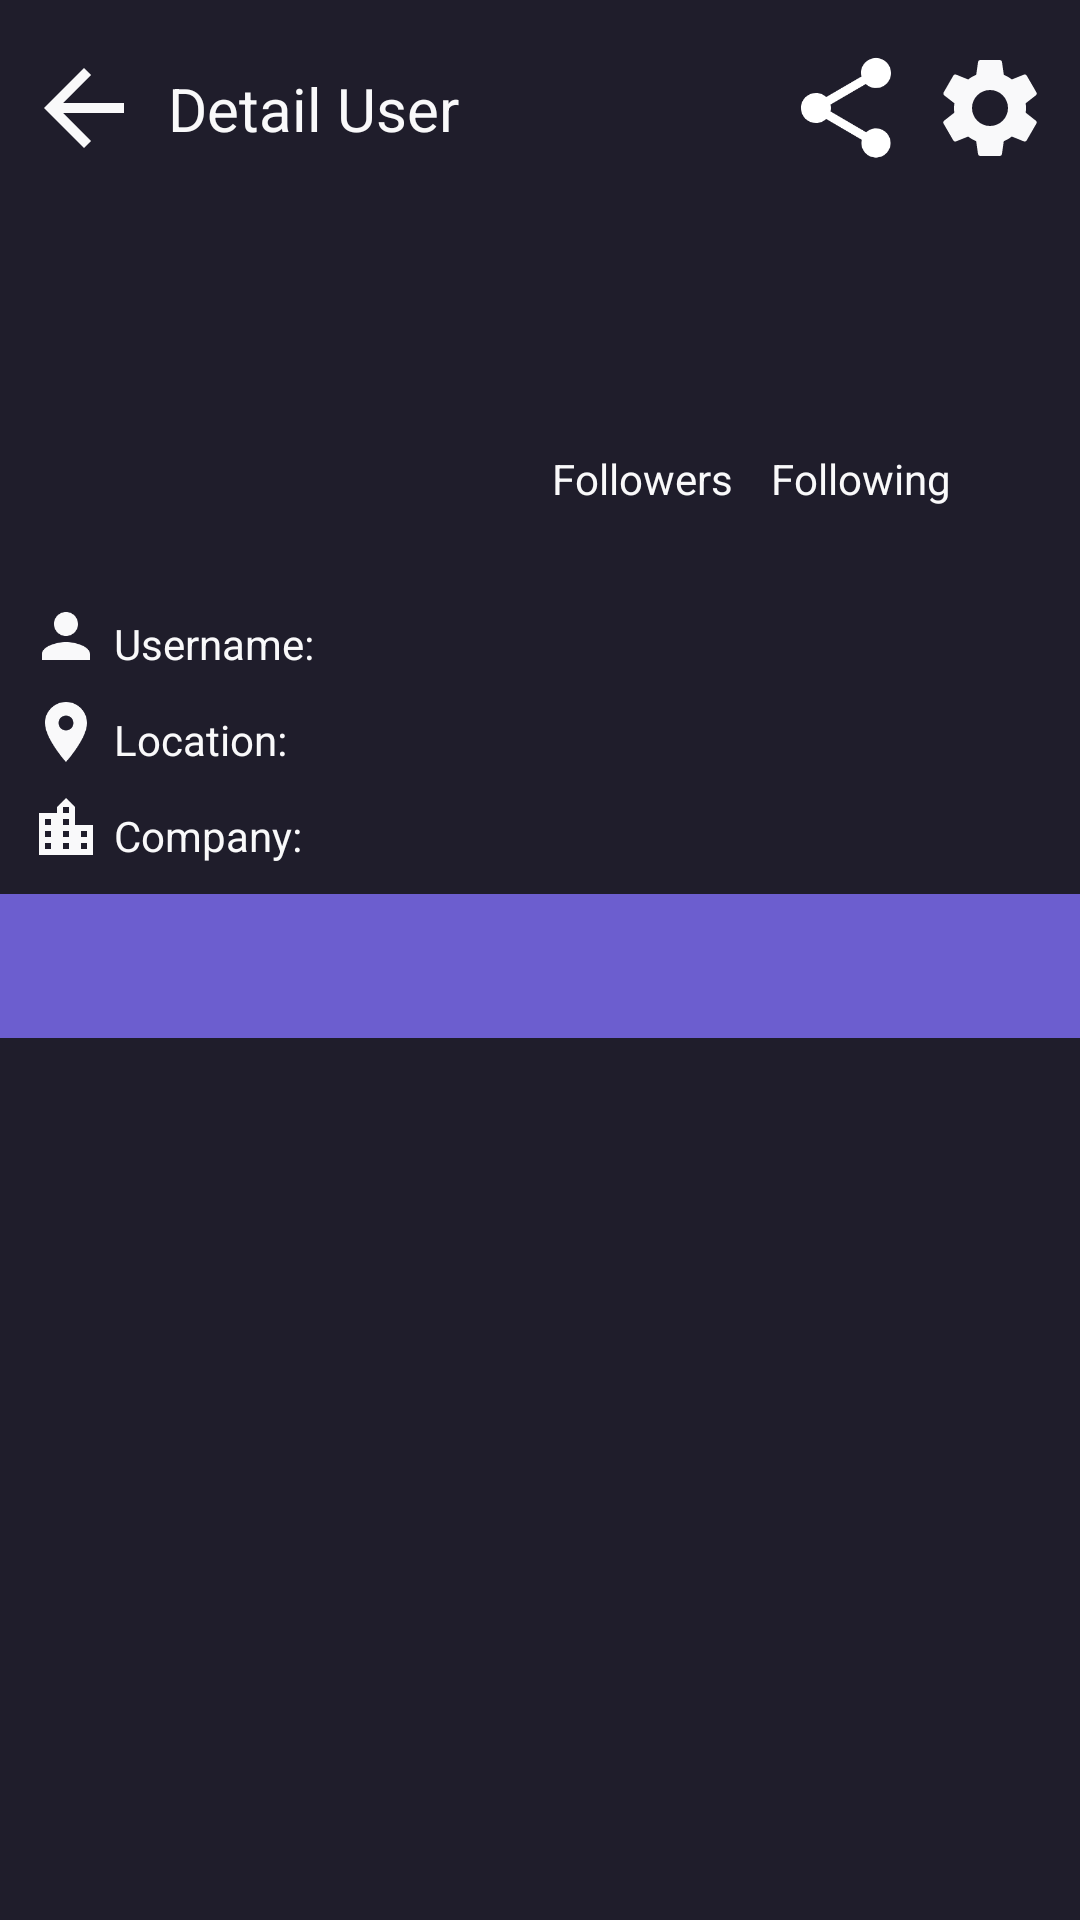

Where to tap for icons on this 1080 x 1920 app screen, as (x,y):
arrow back: (84,108)
person: (66,636)
settings: (990,108)
share: (846,108)
